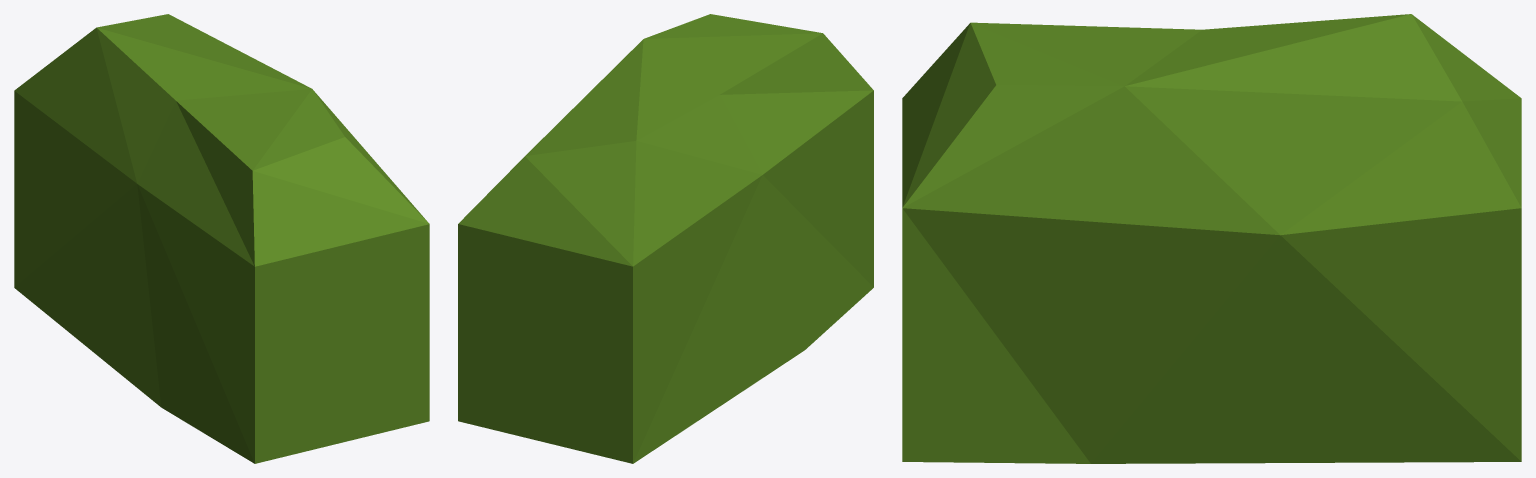
Rendered from bush_small_1.fbx.
The picture shows the model from 3 angles, left to right: view 1: azimuth 30°, elevation 25°; view 2: azimuth 150°, elevation 25°; view 3: azimuth 270°, elevation 25°; orthographic projection. The views are drawn at different scales.
Parts seen in each view (by area): view 1: bush_small_1; view 2: bush_small_1; view 3: bush_small_1.
Boxes of the visible parts, <box> form: bush_small_1: <box>14,14,429,463</box>; bush_small_1: <box>458,14,873,463</box>; bush_small_1: <box>902,14,1521,463</box>.
Size of the model in its own units: 157 by 219 by 328.
